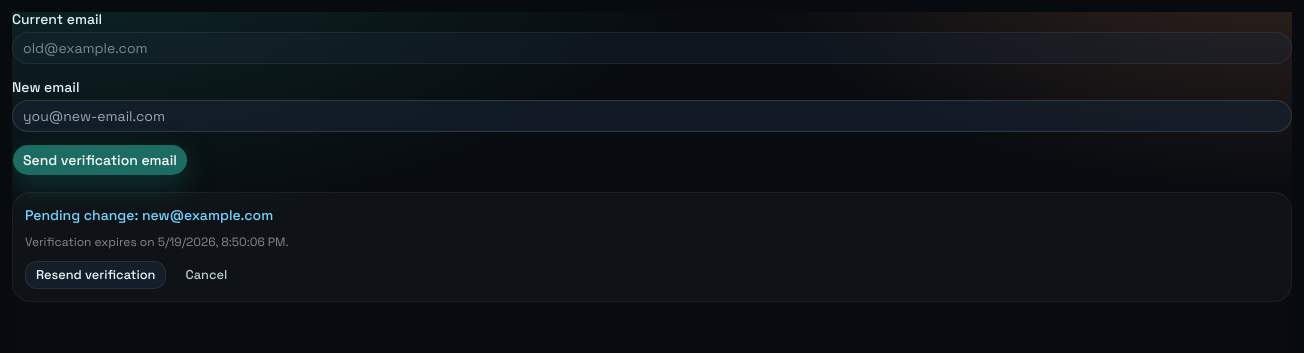
Test case: GlotCap EmailChangeSection › shows resend and cancel errors
The image size is (1304, 353).
Click the button "Resend verification" at {"x": 96, "y": 274}, box [25,260,166,288]
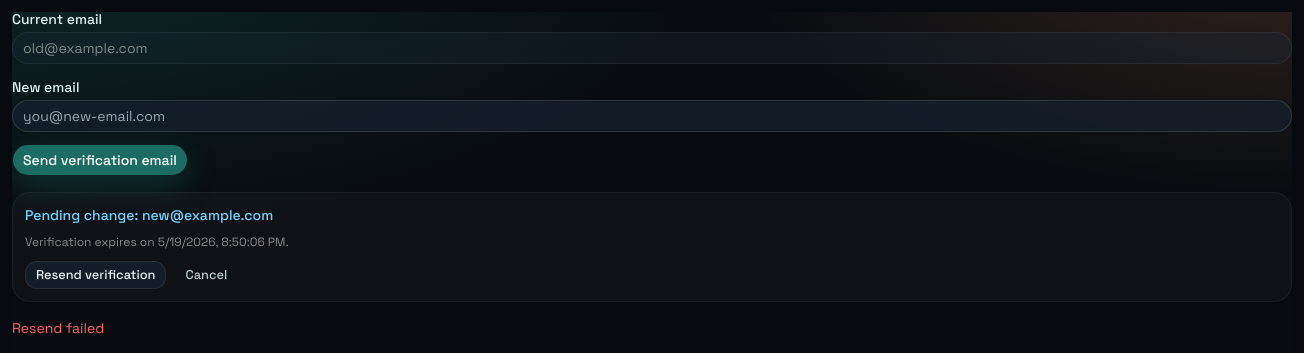
Expected: the text "Resend failed" is shown, [12,318,104,336]
Click the button "Cancel" at {"x": 206, "y": 274}, box [174,260,238,288]
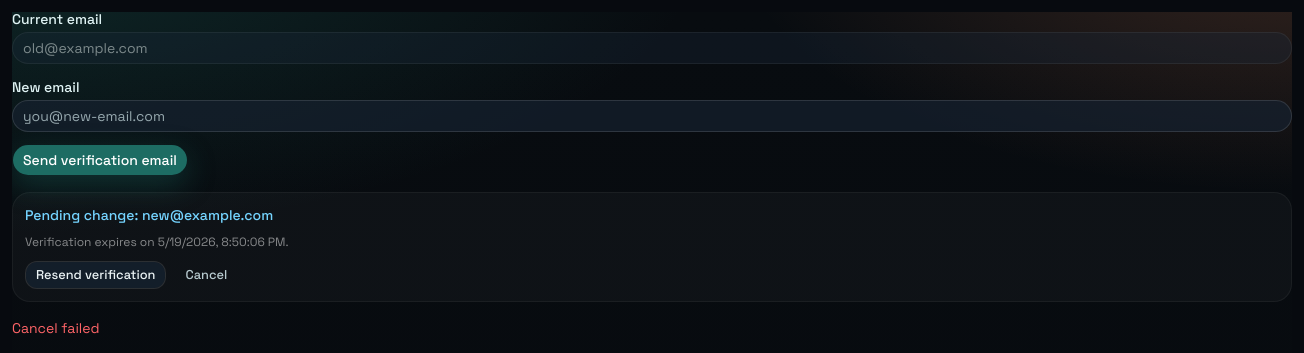
Expected: the text "Cancel failed" is shown, [12,318,100,336]
